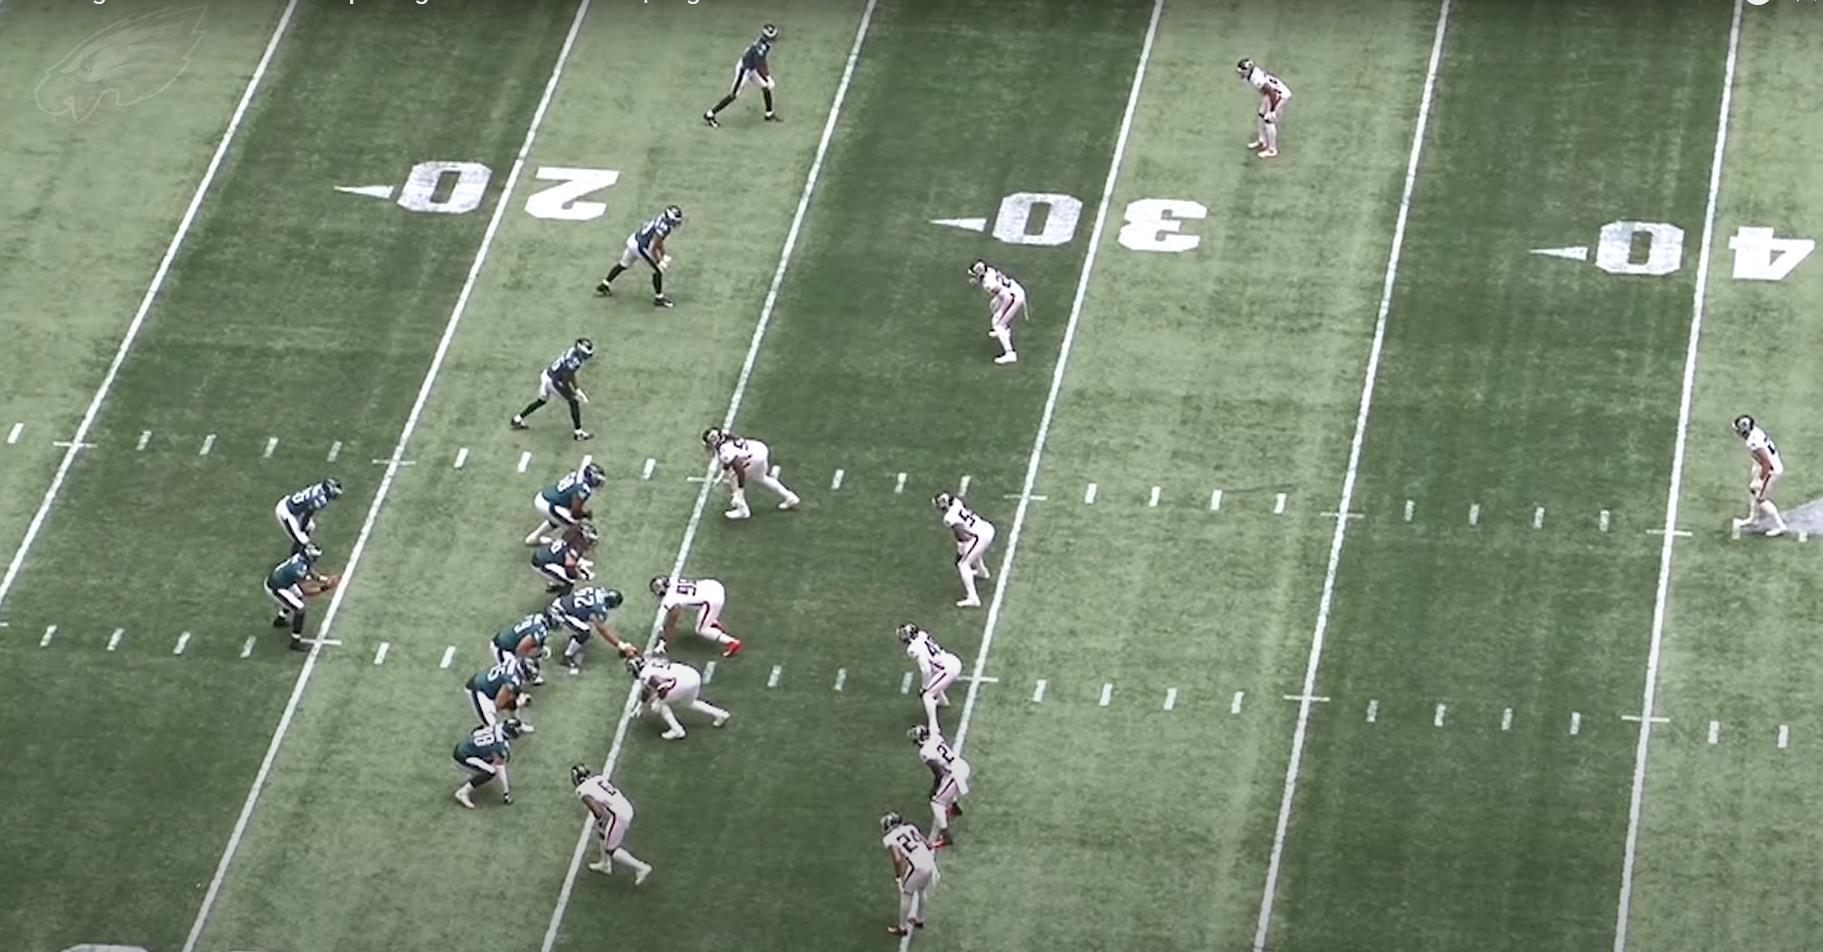defense: (621, 639, 735, 744), (571, 766, 660, 892), (707, 423, 811, 524), (644, 576, 745, 663), (872, 807, 937, 940), (1730, 411, 1793, 543), (916, 722, 980, 850), (904, 621, 972, 739), (938, 488, 1003, 607), (968, 258, 1032, 371), (1235, 54, 1299, 168)
oline: (550, 586, 650, 681), (529, 469, 611, 554), (490, 605, 558, 706), (529, 516, 603, 610), (462, 660, 537, 747)
qb: (264, 545, 344, 654)
skill: (591, 204, 692, 315), (697, 19, 792, 134), (505, 339, 600, 448), (452, 716, 537, 817), (268, 478, 344, 590)
